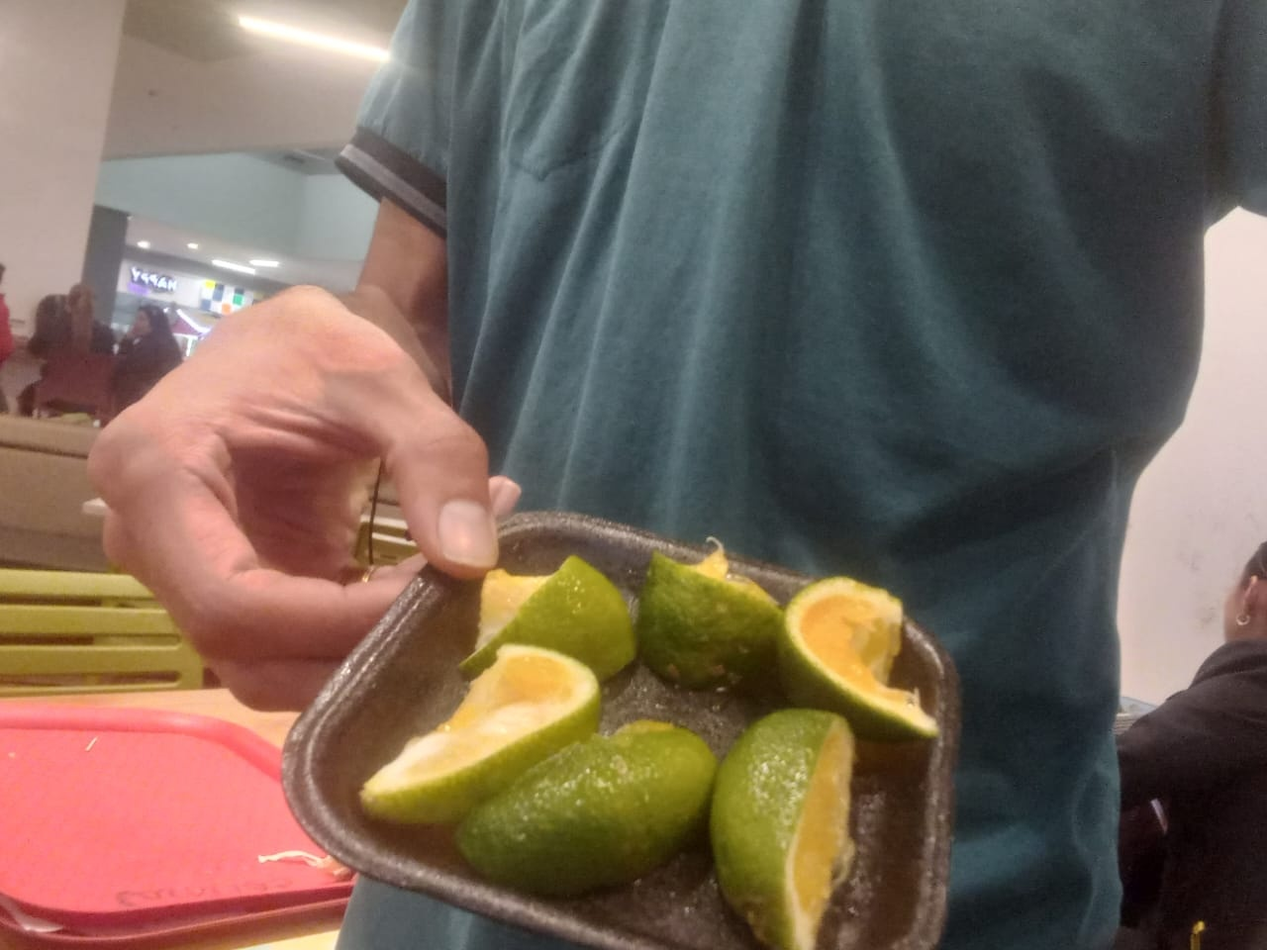Organico: (359, 547, 940, 950)
